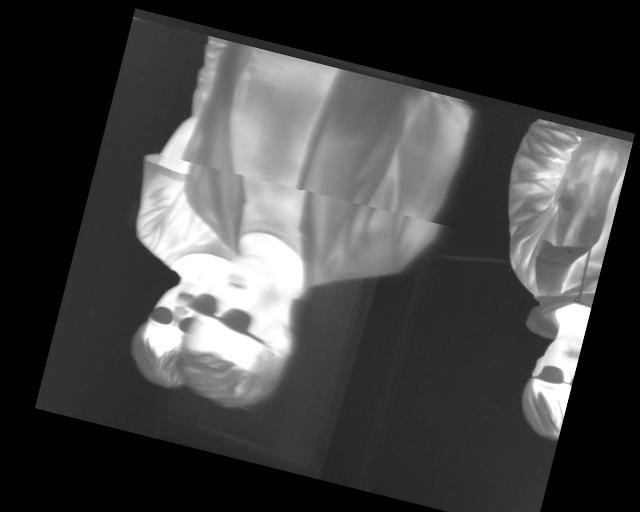face: (173, 246, 311, 421), (121, 272, 207, 394), (512, 326, 583, 442)
